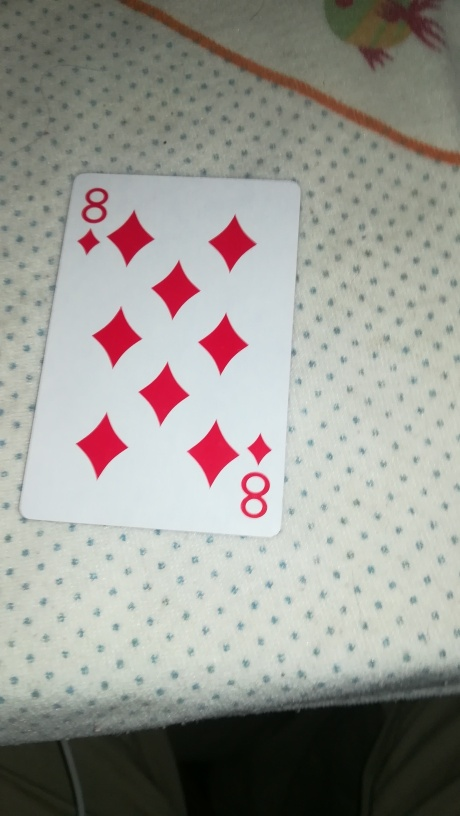fk 8: (15, 172, 303, 538)
